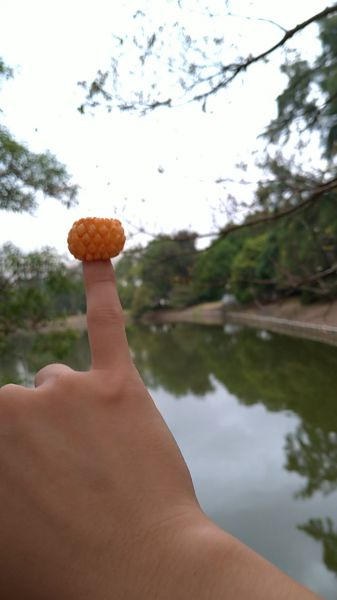eggs: (68, 217, 125, 263)
